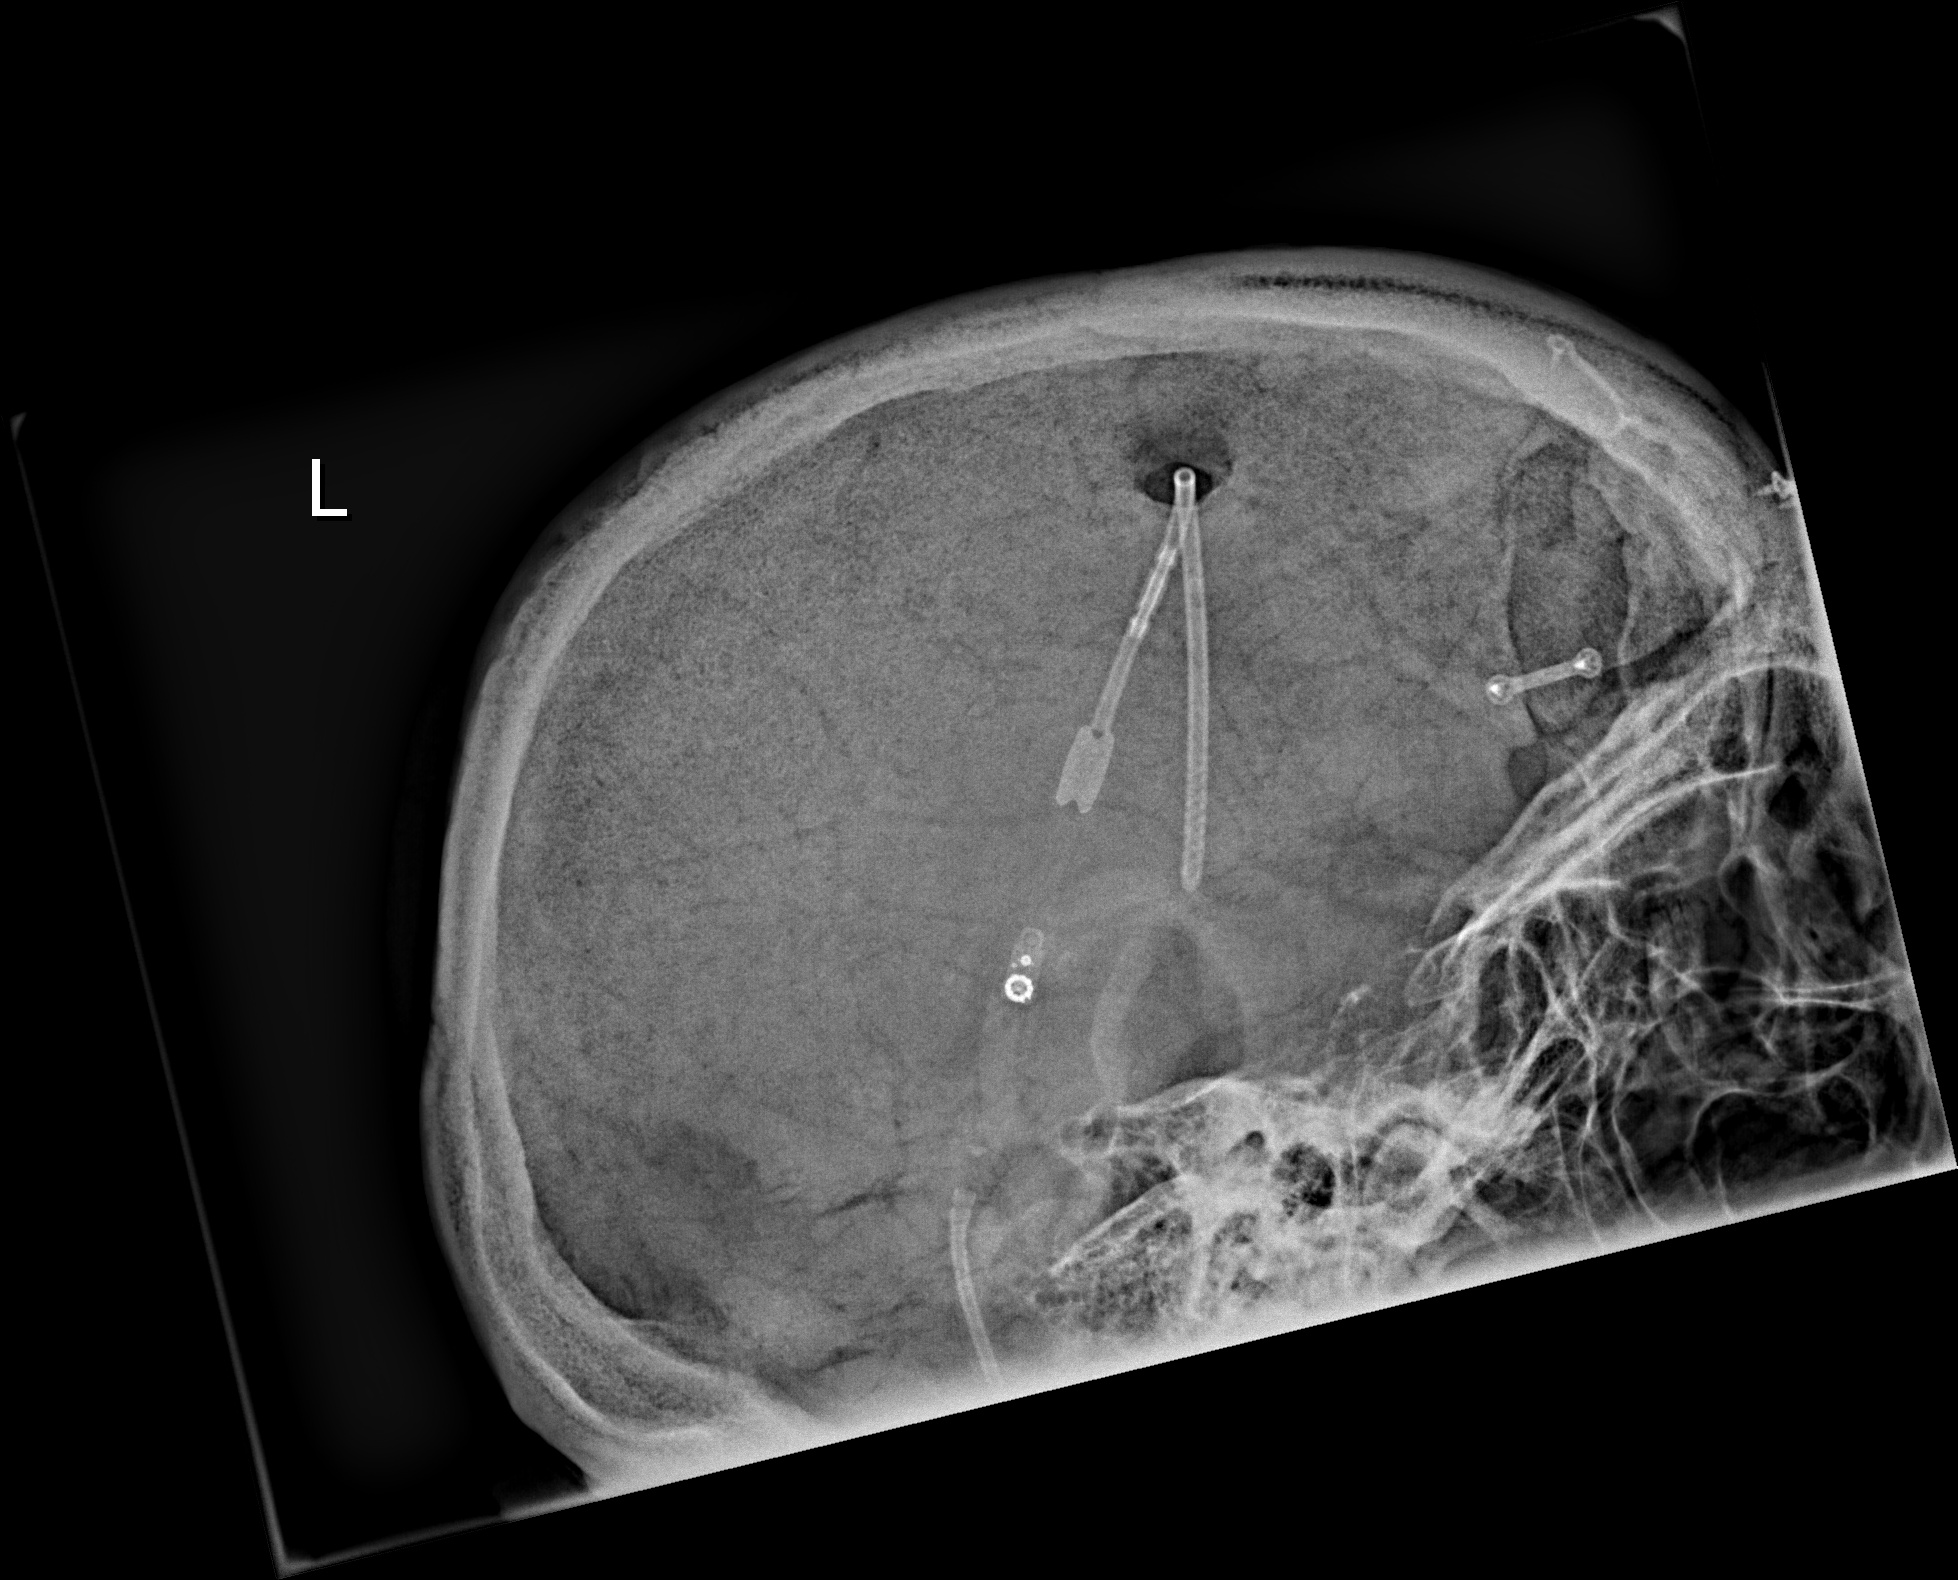Codman Hakim: (989, 933, 1056, 1011)
